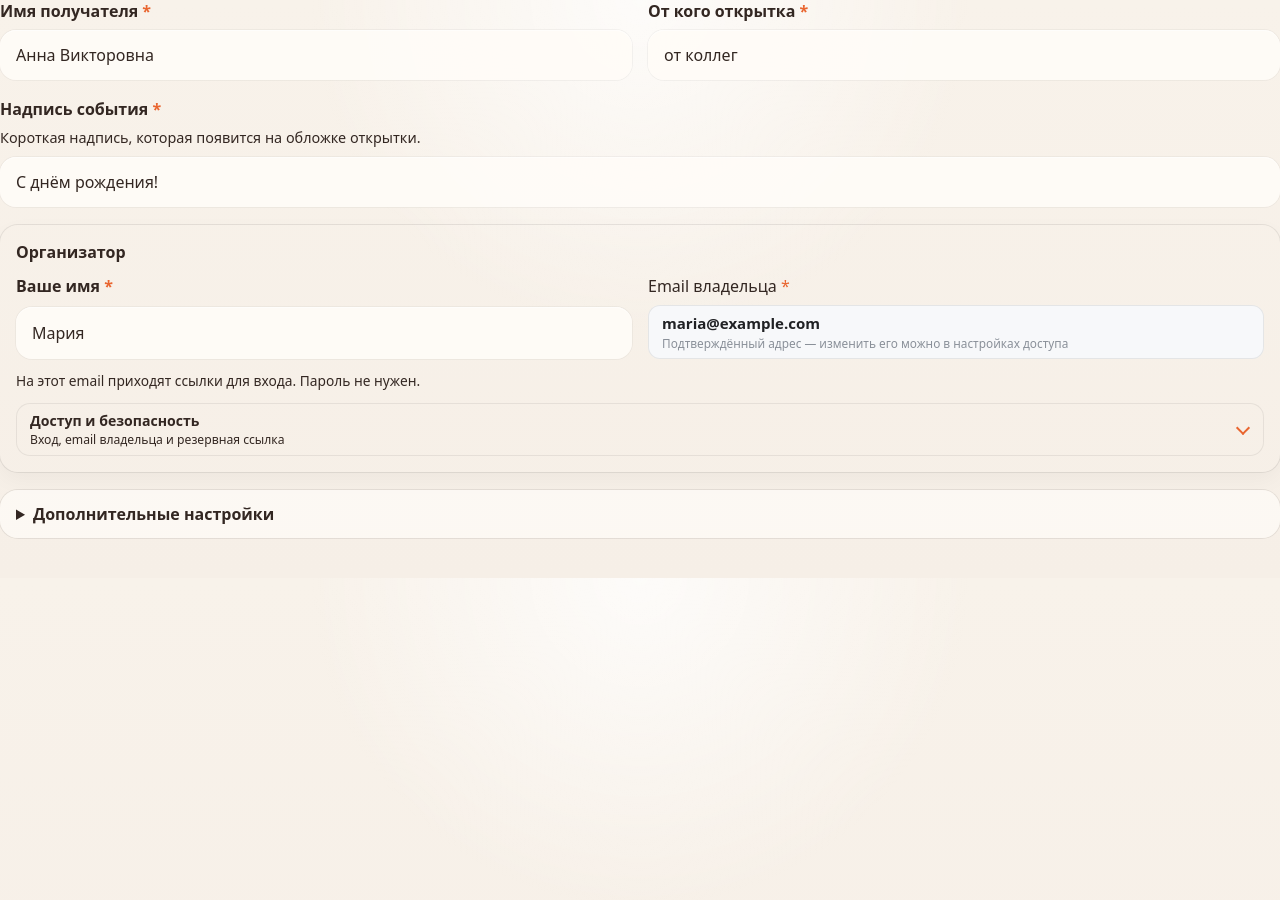
Test: BasicsSettingsForm mobile summary › keeps rare access controls collapsed and uses explicit recovery labels
expect the text "Организатор" is shown: met, box [16, 241, 126, 263]
expect the text "maria@example.com" is shown: met, box [662, 313, 820, 333]
Click the heading "Доступ и безопасность" at (157, 429), box [30, 411, 285, 448]
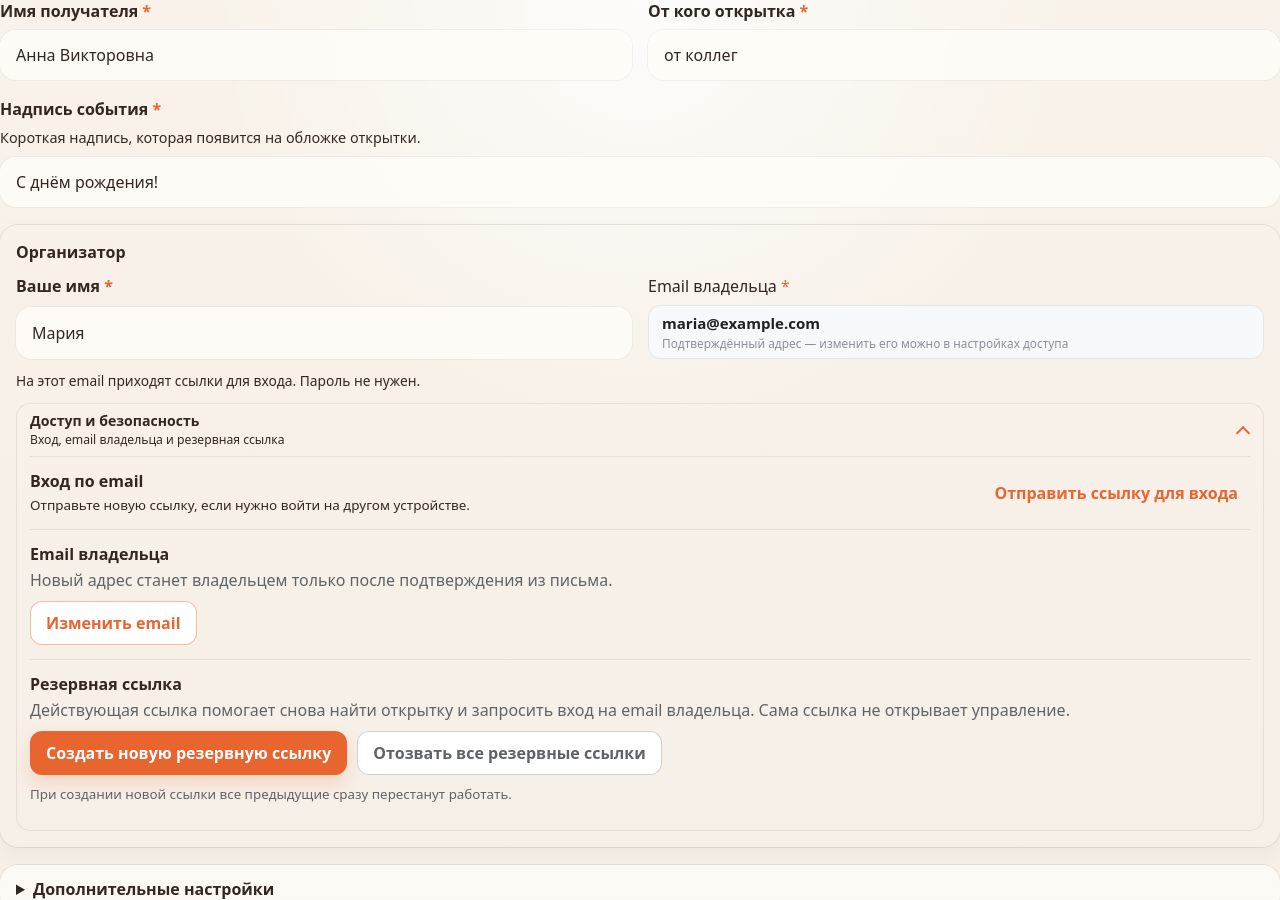
expect the button "Создать новую резервную ссылку" is shown: met, box [30, 731, 347, 775]
expect the button "Отозвать все резервные ссылки" is shown: met, box [357, 731, 662, 775]
expect the text "сама ссылка не открывает управление" is shown: met, box [30, 699, 1070, 721]
